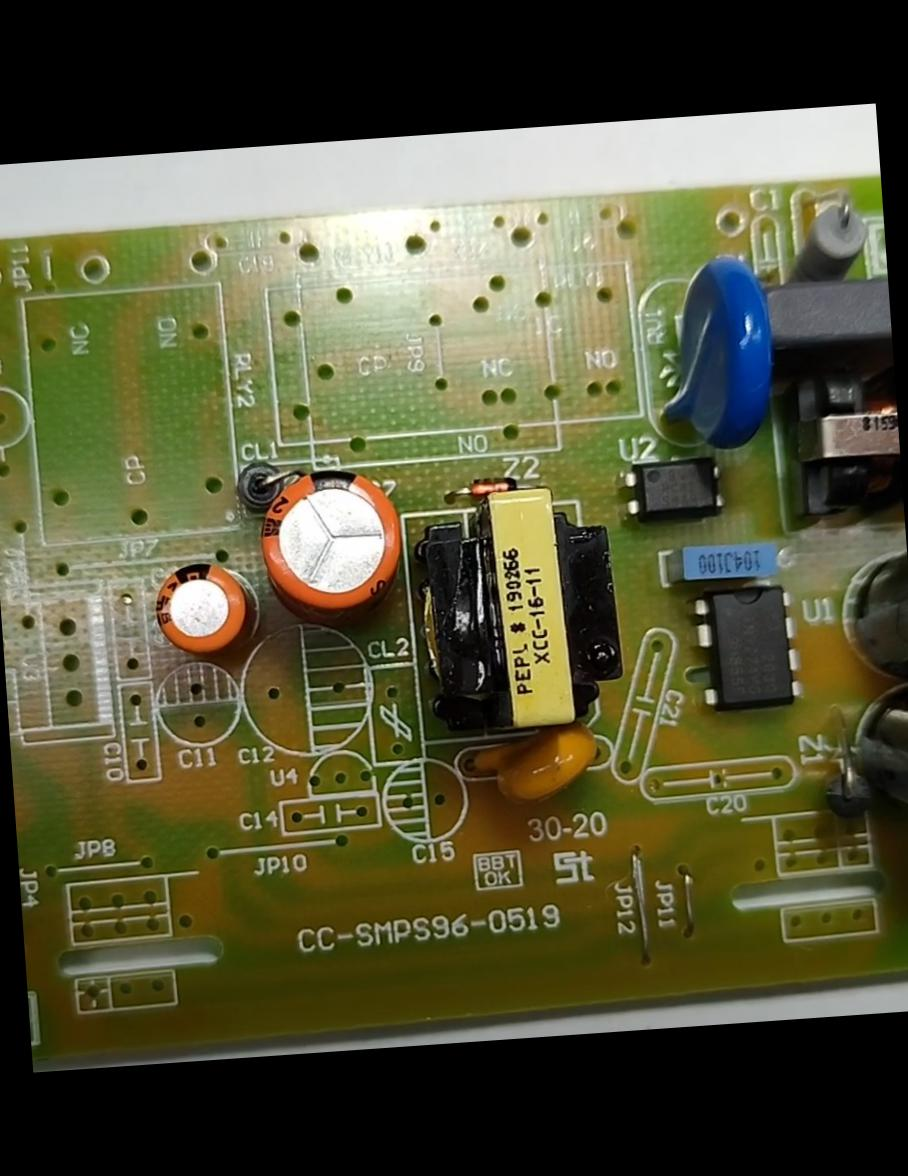Cap1: (251, 462, 408, 620)
Cap2: (147, 556, 251, 660)
Cap3: (835, 519, 907, 693)
Cap4: (846, 681, 907, 854)
MOSFET: (696, 584, 800, 710)
Mov: (644, 249, 770, 452)
Resistor: (781, 194, 877, 281)
Transformer: (414, 481, 630, 742), (776, 355, 904, 531)
